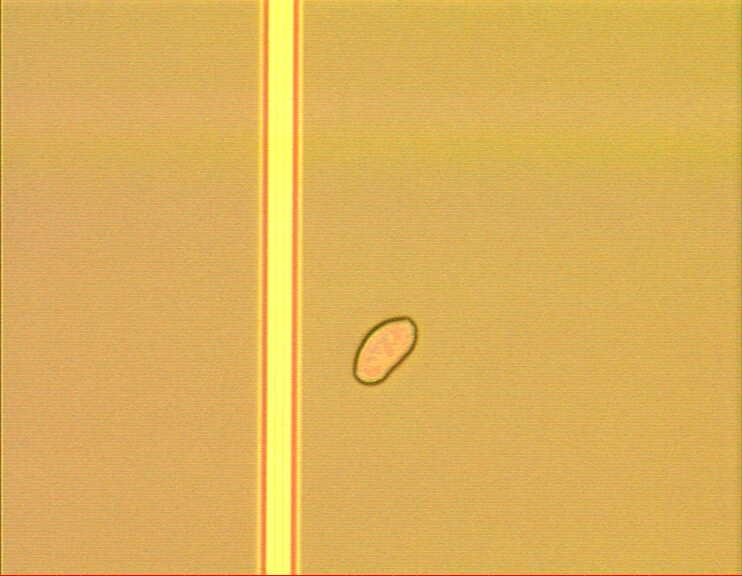PIQ PARTICLE: (353, 316, 419, 387)
